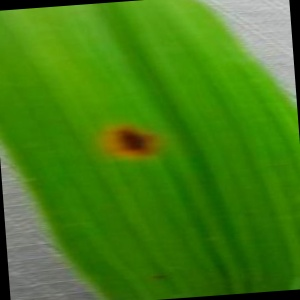Bacterial_Leaf_Blight: (102, 115, 165, 166), (147, 269, 174, 288)
